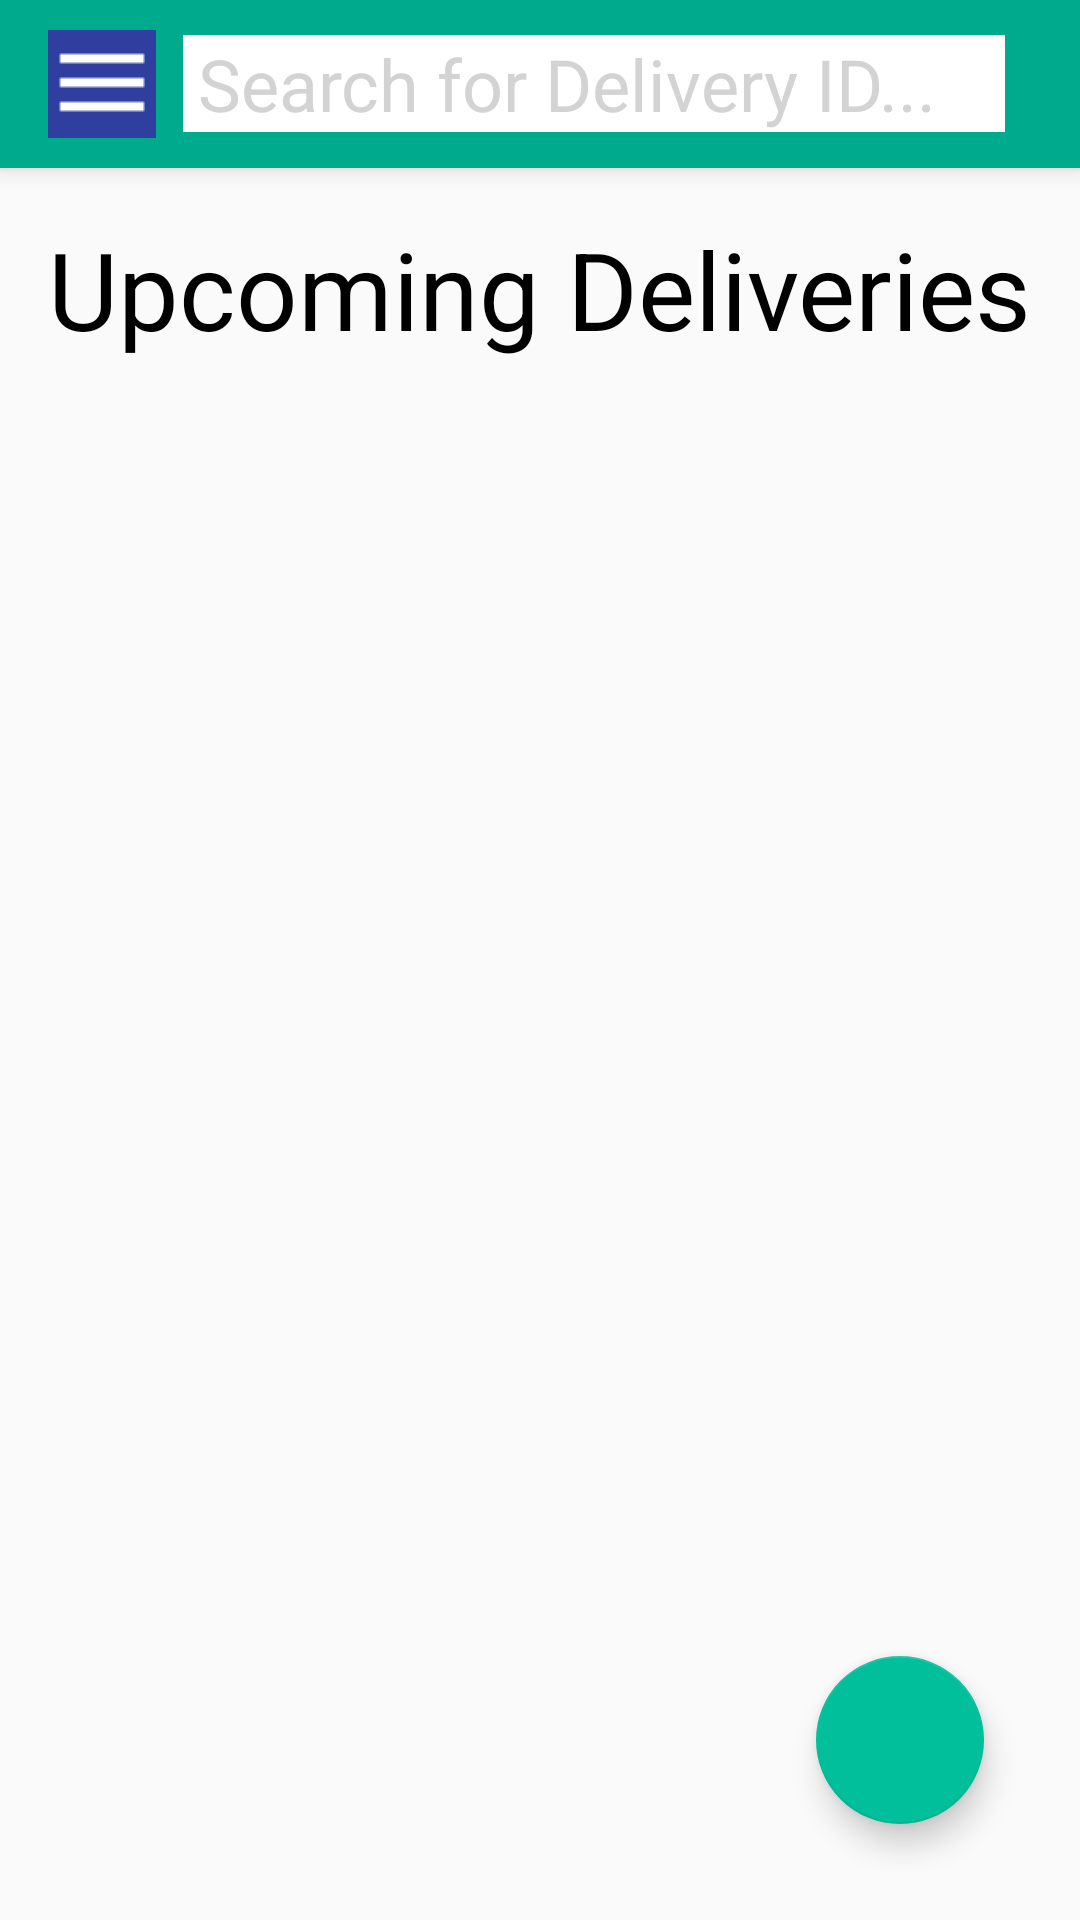

Icons on this 1080×1920 Android screen, each with the point to tap as point (x, y):
menu: point (102, 84)
